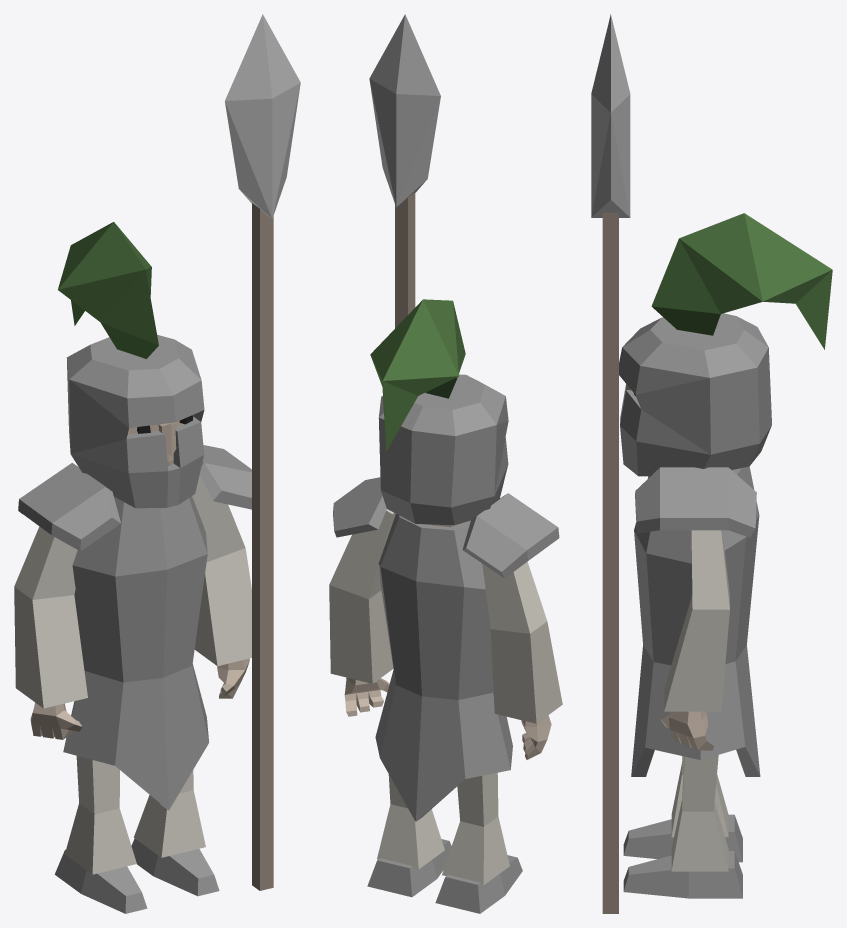
3 renders of one model, left to right at view 1: azimuth 30°, elevation 25°; view 2: azimuth 150°, elevation 25°; view 3: azimuth 270°, elevation 25°, orthographic. The views are drawn at different scales.
Parts seen in each view (by area): view 1: Guardian_medievalfantasyassets; view 2: Guardian_medievalfantasyassets; view 3: Guardian_medievalfantasyassets.
Part boxes in pixels (<box>): Guardian_medievalfantasyassets: <box>14,14,300,913</box>; Guardian_medievalfantasyassets: <box>329,14,562,913</box>; Guardian_medievalfantasyassets: <box>591,14,832,913</box>.
Size of the model in its own units: 3.04 by 10.97 by 2.68.
1 material, 1 textured.
